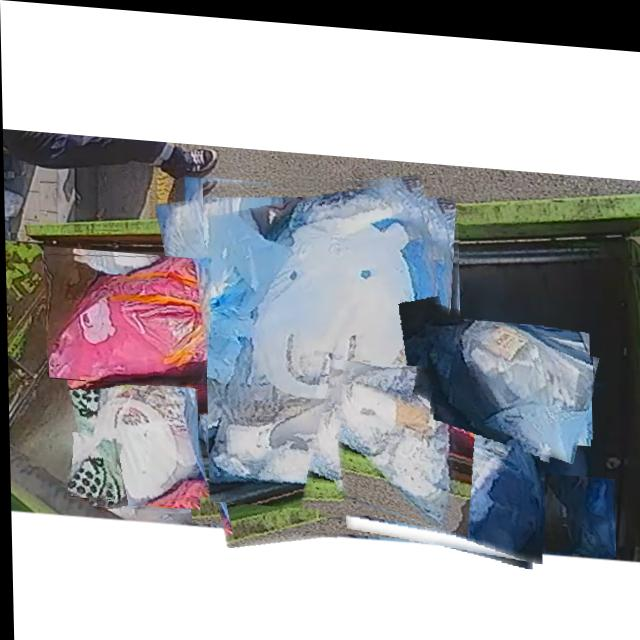general_trashbag: (66, 437, 112, 497)
other_trashbag: (208, 175, 449, 512), (333, 360, 540, 556), (47, 256, 207, 379), (424, 312, 591, 415), (87, 361, 194, 506), (545, 465, 614, 548)
